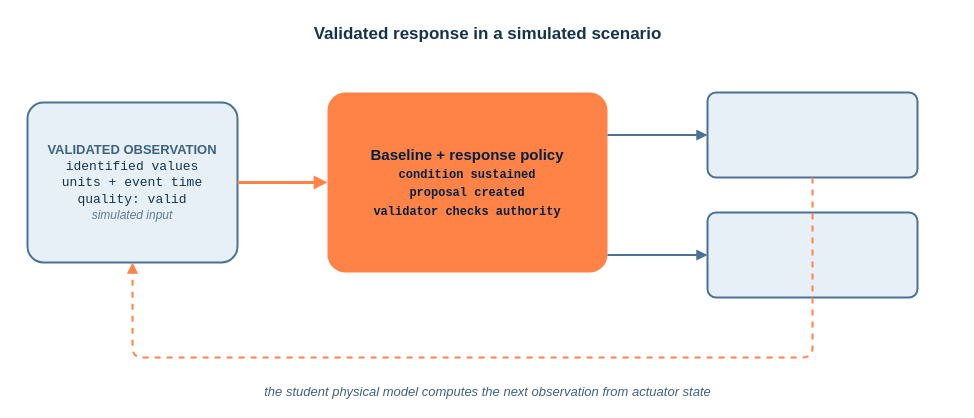
Some shapes in this 974 by 418 pixel diagram are drawn without their labels. Here are the shapes that lost their labels. From the top down, the box of each, then its label:
(706, 91, 918, 178): BUILDSIM UPDATE accepted actuator state PUT /api/actuators/{id}/state
(706, 211, 918, 298): EVIDENCE input IDs + policy version validation + outcome
